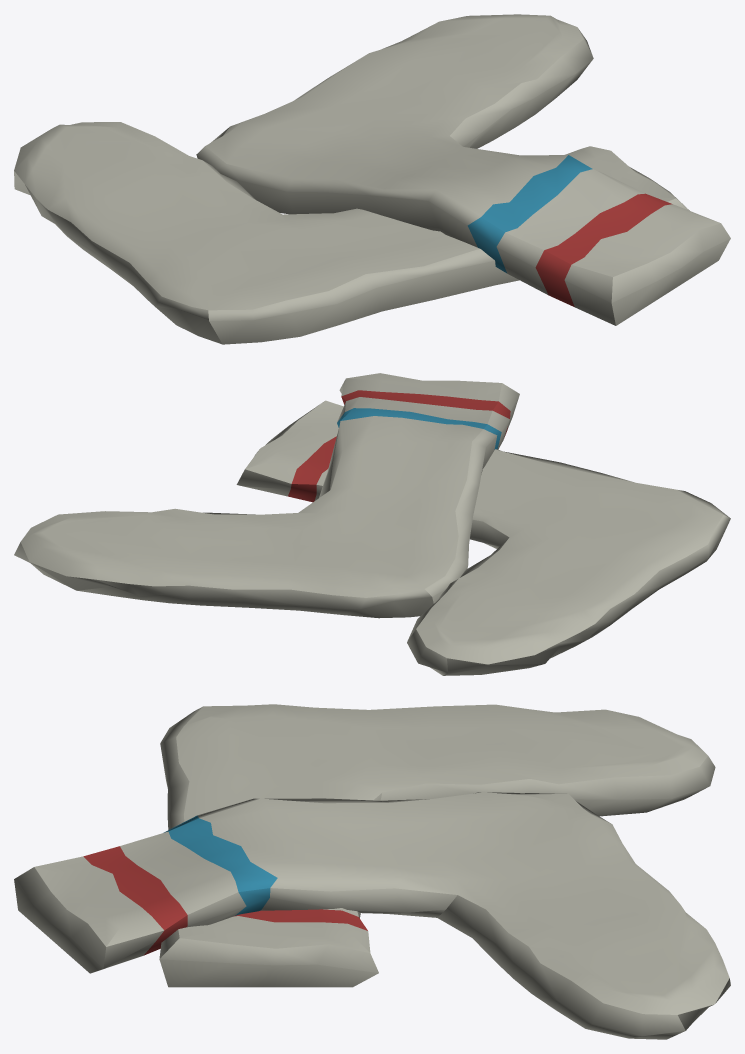
The model's file is Socks.fbx.
The picture shows the model from 3 angles, top to bottom: view 1: azimuth 30°, elevation 25°; view 2: azimuth 150°, elevation 25°; view 3: azimuth 270°, elevation 25°; orthographic projection. The views are drawn at different scales.
Visible parts, largest first — view 1: pPlane5, pPlane4; view 2: pPlane5, pPlane4; view 3: pPlane5, pPlane4.
Part boxes in pixels (x1=…): pPlane5: x1=196, y1=14, x2=730, y2=325; pPlane4: x1=14, y1=122, x2=689, y2=344; pPlane5: x1=14, y1=373, x2=519, y2=618; pPlane4: x1=236, y1=400, x2=730, y2=675; pPlane5: x1=14, y1=792, x2=730, y2=1039; pPlane4: x1=159, y1=704, x2=715, y2=987.
Bounding box in the file's own units: 0.7352 × 0.0834 × 0.7033.
